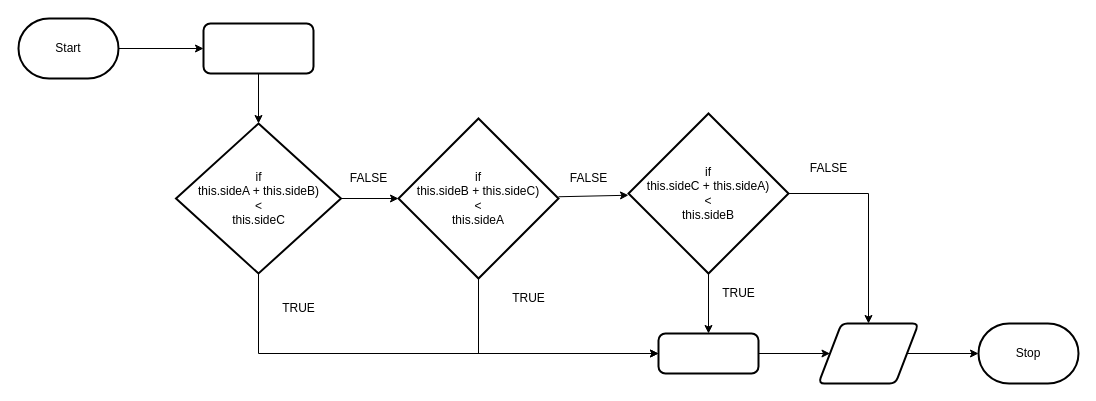
Some shapes in this 1096 by 401 pixel diagram are drawn without their labels. The centre of each missing label's shape, as x and y in pixels:
"Get isValid" belongs at point 868,353.
"isValid = false" belongs at point 708,353.
"isValid = true" belongs at point 258,48.
